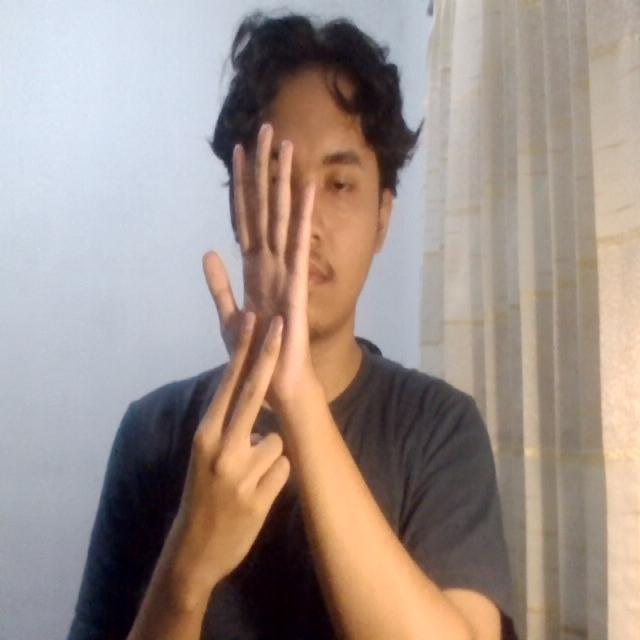IloveYou: (155, 104, 371, 543)
